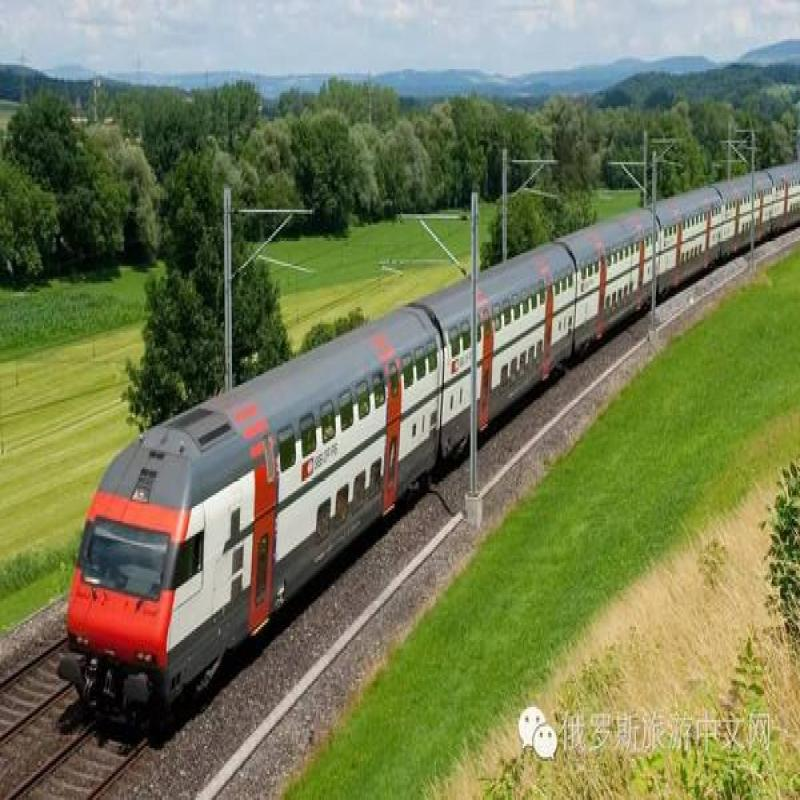train: (97, 274, 568, 702)
